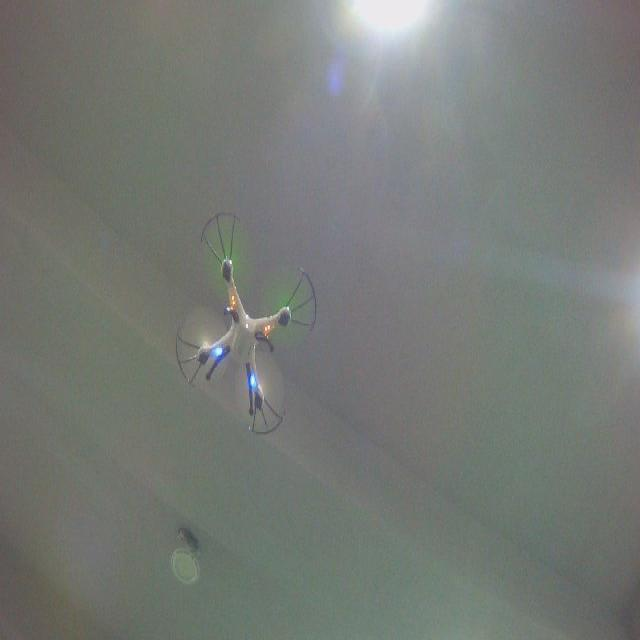drone: (173, 210, 320, 438)
